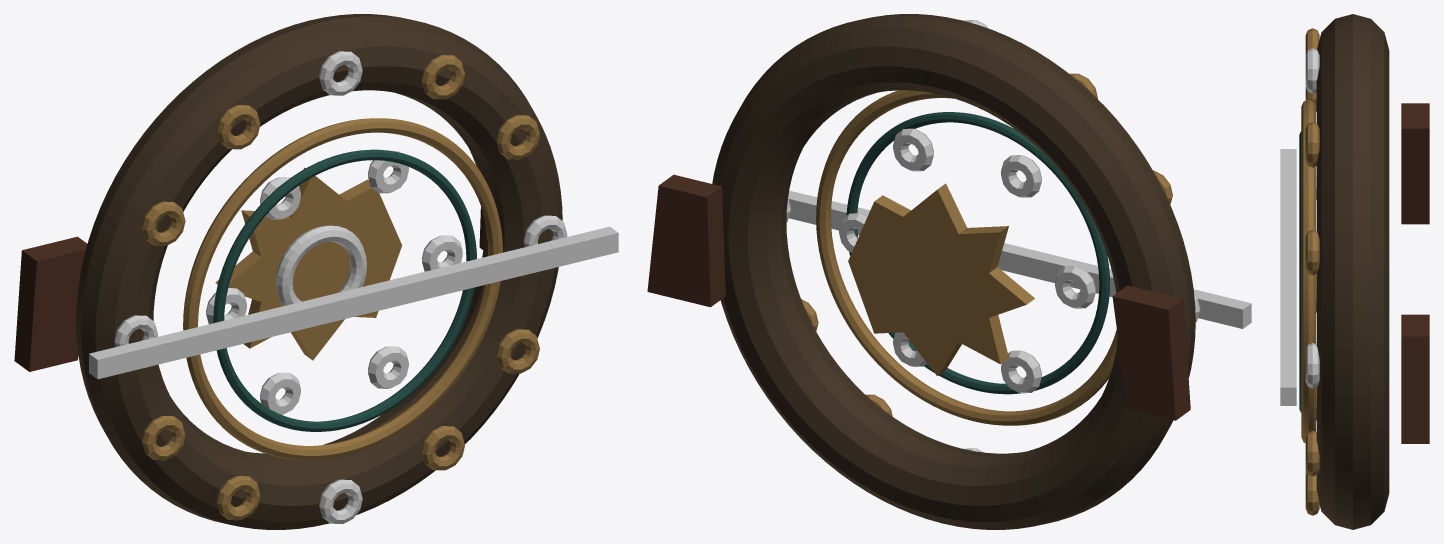
Rendered from SM_RatiborCloakClasp_v01.obj.
3 renders of one model, left to right at view 1: azimuth 30°, elevation 25°; view 2: azimuth 150°, elevation 25°; view 3: azimuth 270°, elevation 25°, orthographic. The views are drawn at different scales.
Visible parts, largest first — view 1: SM_RatiborCloakClasp_v01; view 2: SM_RatiborCloakClasp_v01; view 3: SM_RatiborCloakClasp_v01.
Boxes of the visible parts, x1,y1,x2,y2 form: SM_RatiborCloakClasp_v01: (14, 14, 618, 529); SM_RatiborCloakClasp_v01: (647, 14, 1251, 529); SM_RatiborCloakClasp_v01: (1280, 14, 1429, 529).
Size of the model in its own units: 0.142 by 0.128 by 0.037.
